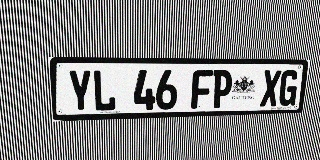4: (134, 70, 156, 110)
6: (156, 70, 178, 110)
F: (191, 70, 213, 109)
G: (278, 70, 299, 106)
L: (92, 70, 116, 112)
P: (211, 70, 233, 108)
X: (260, 70, 282, 107)
Y: (67, 70, 93, 112)
